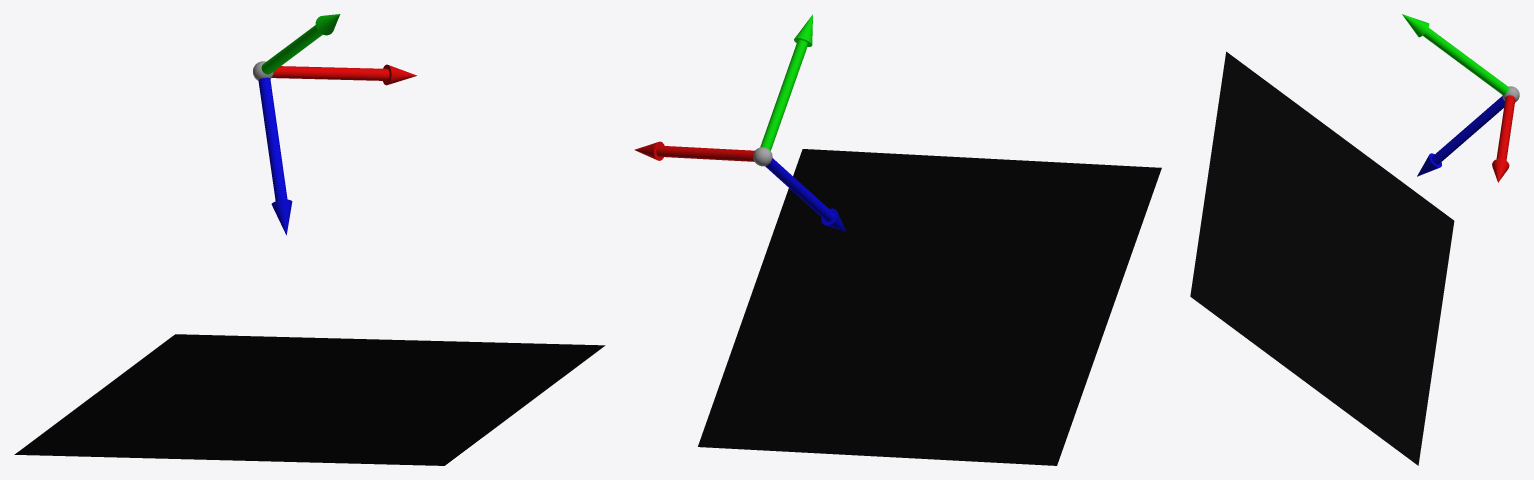
3 views of the same model, side by side, from view 1: azimuth 30°, elevation 25°; view 2: azimuth 150°, elevation 25°; view 3: azimuth 270°, elevation 25° (orthographic). The views are drawn at different scales.
Bounding box in the file's own units: 0.3589 × 0.386 × 0.2842.
